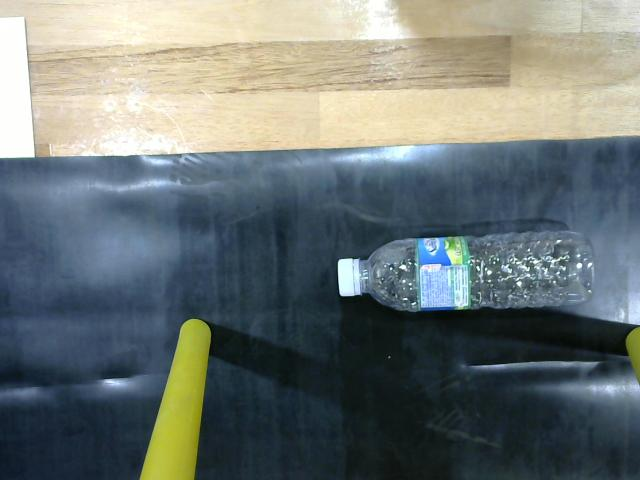bottle: (333, 229, 606, 321)
